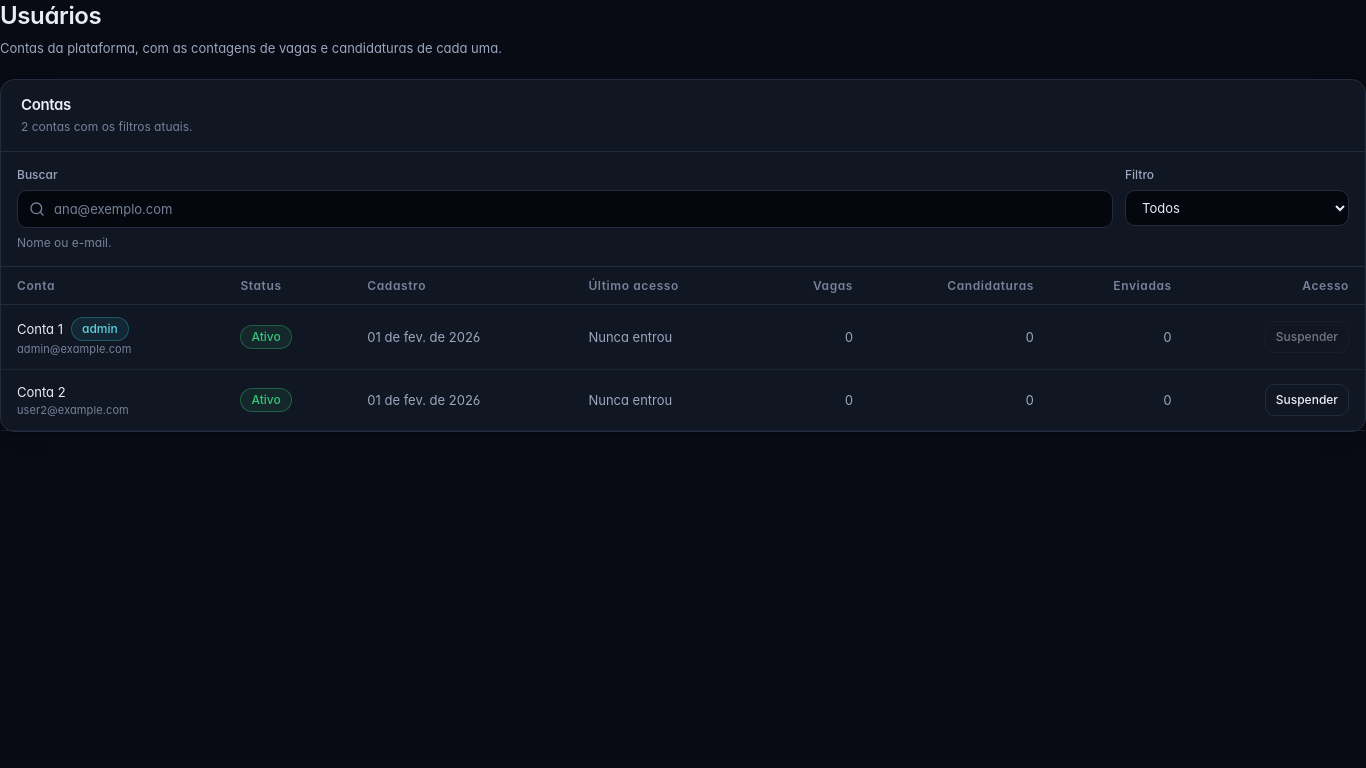
AdminUsers › lets the administrator back out of the question
Click the button "Suspender" in the row of "Conta 2" at x=1307, y=400, box [1265, 384, 1349, 416]
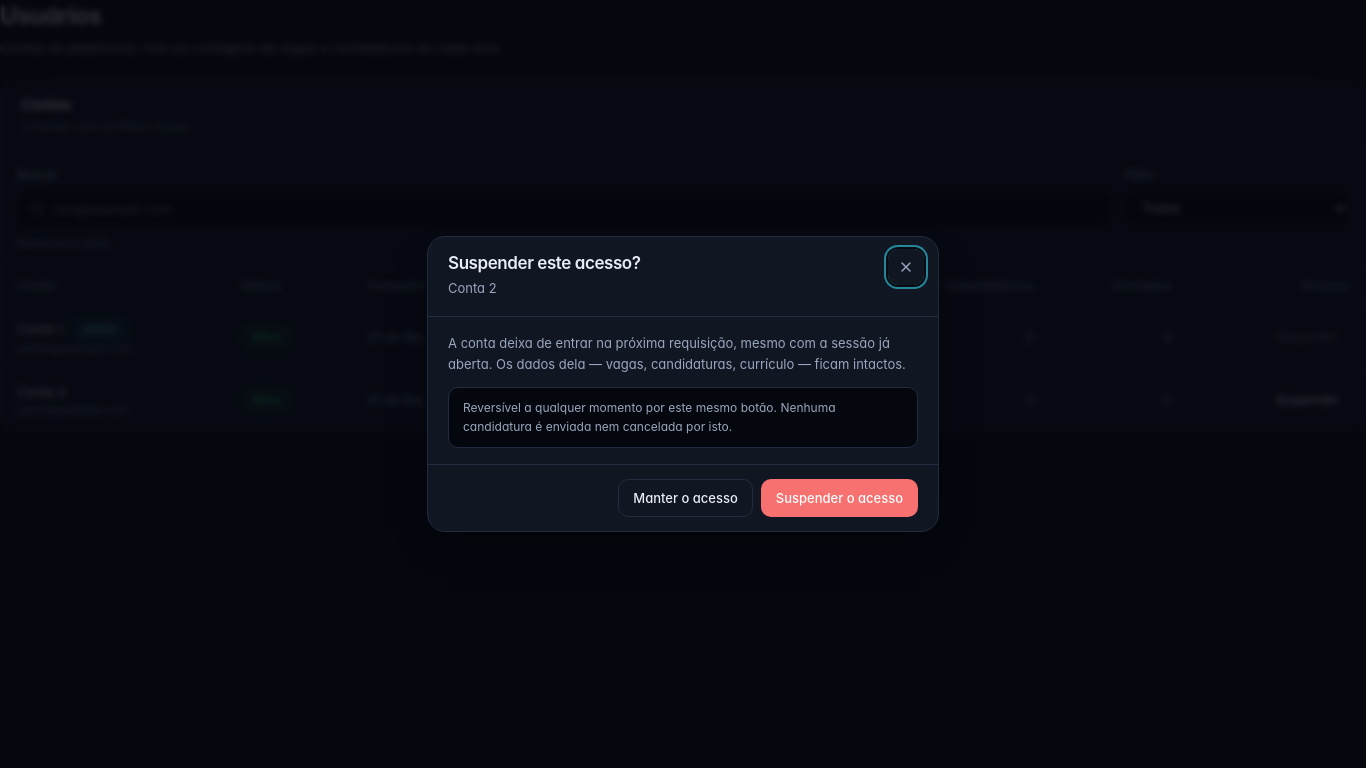
Click the button "Manter o acesso" at x=686, y=498, box [618, 479, 753, 517]
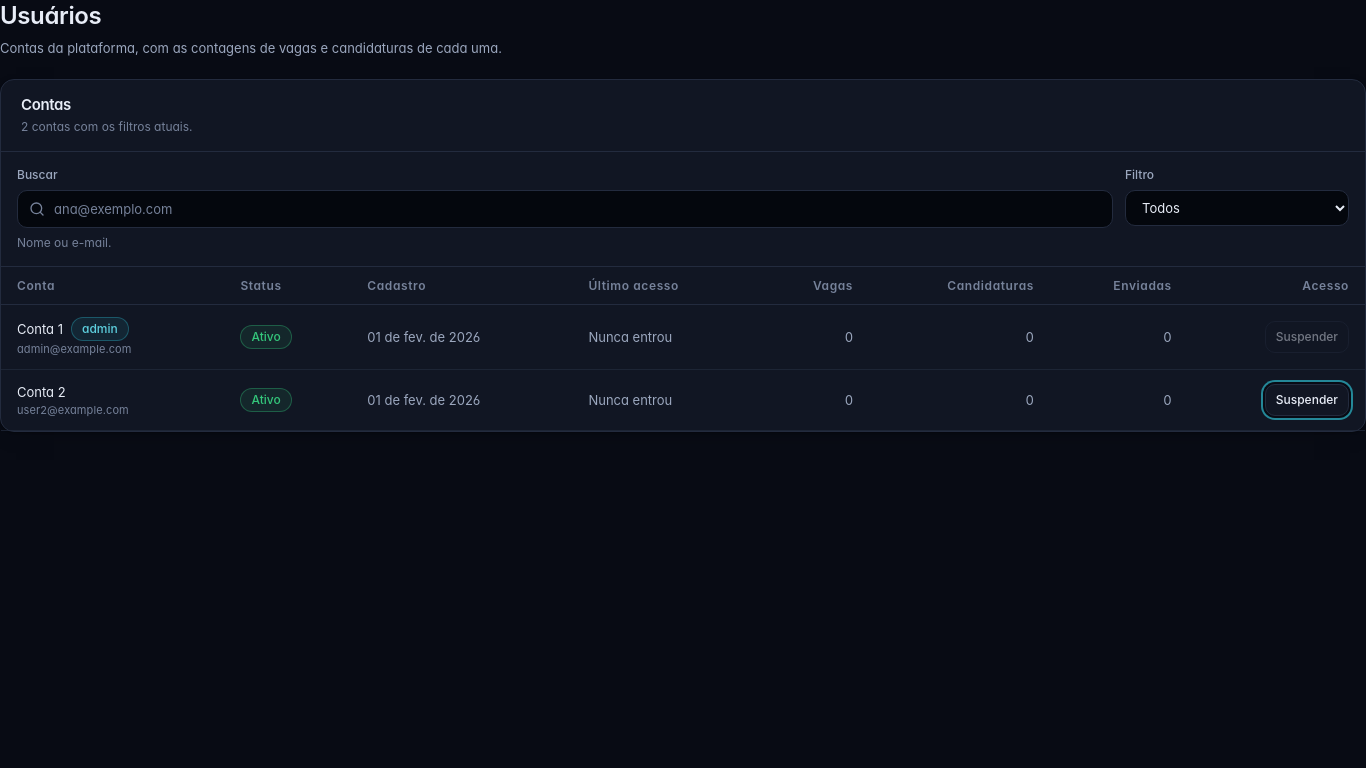
Expected: the heading "Suspender este acesso?" is gone
